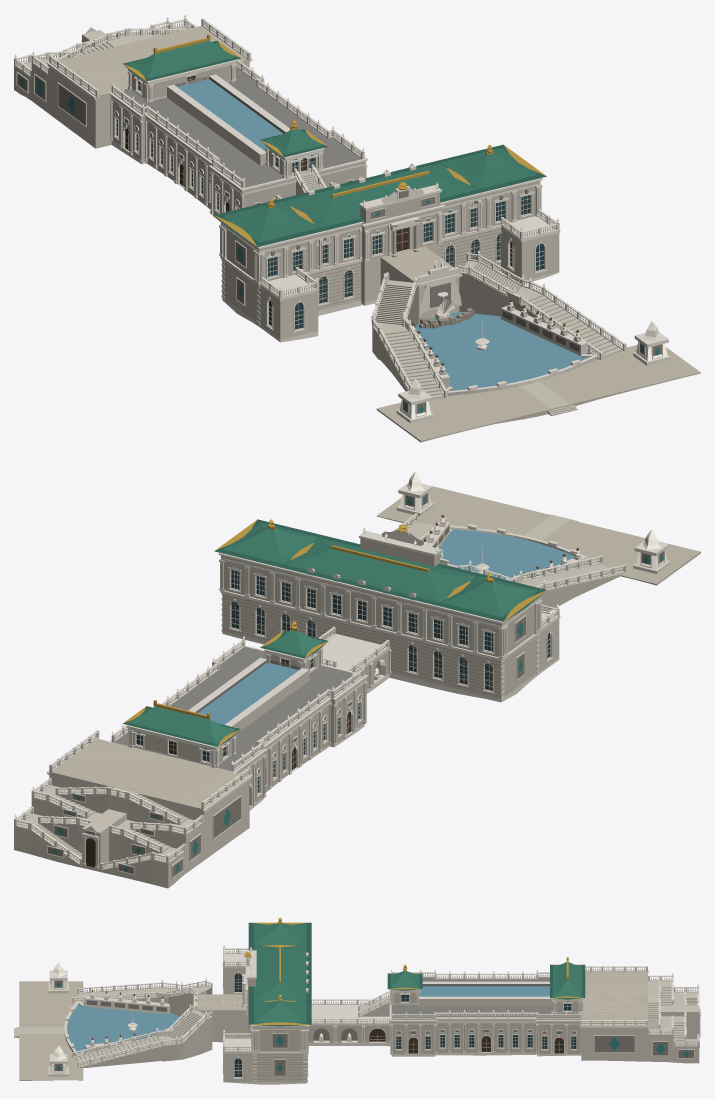
The picture shows the model from 3 angles, top to bottom: view 1: azimuth 30°, elevation 25°; view 2: azimuth 150°, elevation 25°; view 3: azimuth 270°, elevation 25°; orthographic projection. The views are drawn at different scales.
Visible parts, largest first — view 1: XY08 海晏堂 Haiyantang; view 2: XY08 海晏堂 Haiyantang; view 3: XY08 海晏堂 Haiyantang.
Boxes of the visible parts, <box> form: XY08 海晏堂 Haiyantang: <box>14,14,700,442</box>; XY08 海晏堂 Haiyantang: <box>14,471,700,888</box>; XY08 海晏堂 Haiyantang: <box>14,917,700,1084</box>.
Bounding box in the file's own units: 49 × 19.91 × 139.
